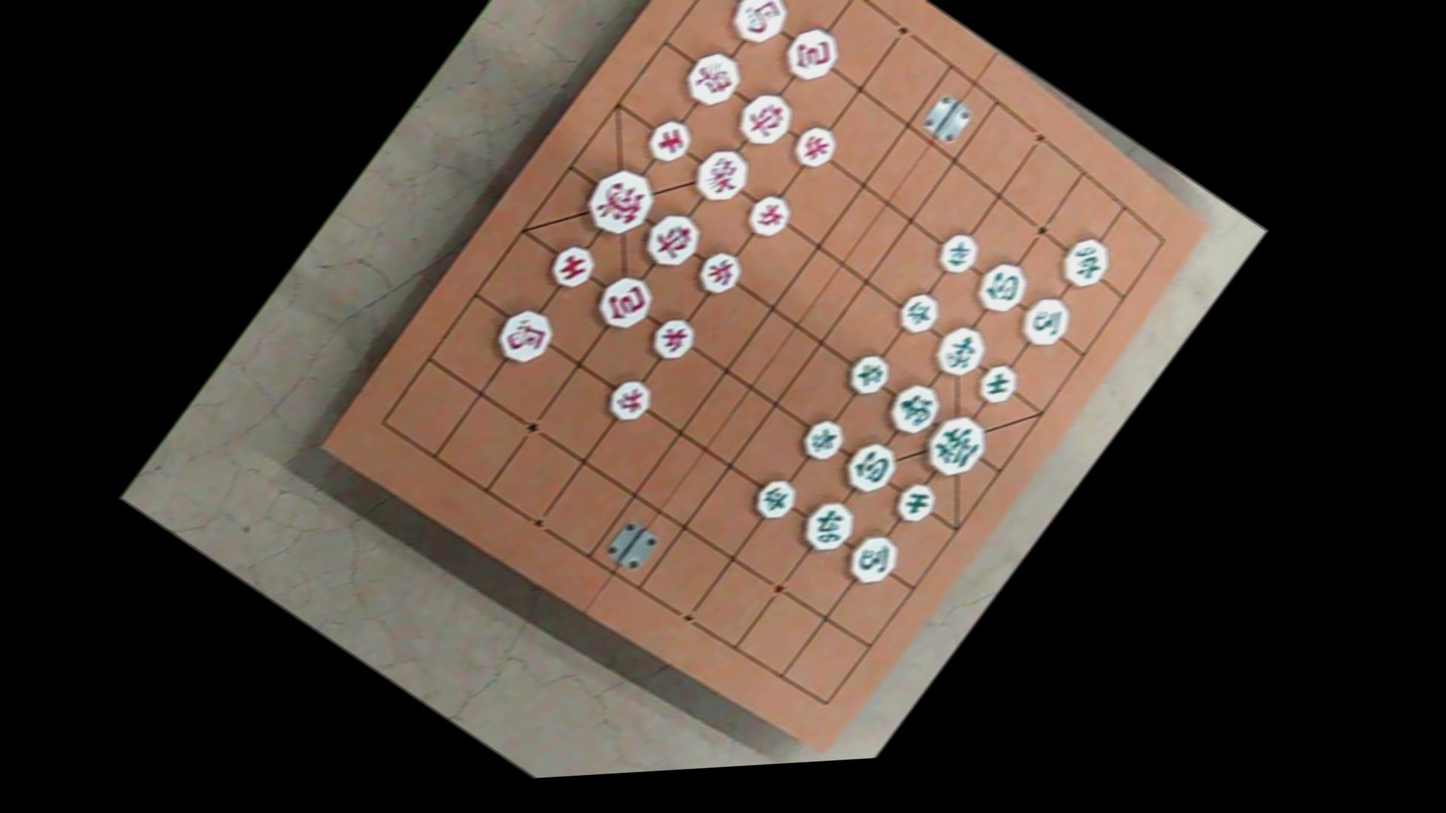cha_green: (790, 491, 864, 562), (1050, 228, 1120, 296)
cha_red: (633, 203, 710, 276), (726, 82, 802, 155)
jol_green: (839, 346, 898, 401), (746, 471, 803, 527), (929, 225, 987, 280), (889, 285, 947, 340), (793, 412, 850, 467)
jol_red: (688, 242, 750, 302), (784, 117, 845, 176), (642, 309, 703, 367), (738, 187, 798, 245), (599, 371, 659, 429)
ma_green: (1008, 287, 1081, 356), (836, 524, 908, 593)
ma_red: (486, 299, 563, 373), (719, 0, 797, 54)
po_green: (833, 431, 908, 504), (967, 251, 1039, 321)
po_red: (584, 265, 662, 340), (774, 17, 849, 90)
sa_green: (884, 474, 944, 531), (969, 355, 1026, 411)
sa_red: (638, 111, 699, 170), (541, 237, 602, 296)
sang_green: (877, 373, 950, 444), (923, 315, 996, 386)
sang_red: (684, 139, 759, 211), (676, 43, 750, 115)
wang_green: (911, 403, 999, 488)
wang_red: (573, 156, 667, 246)
